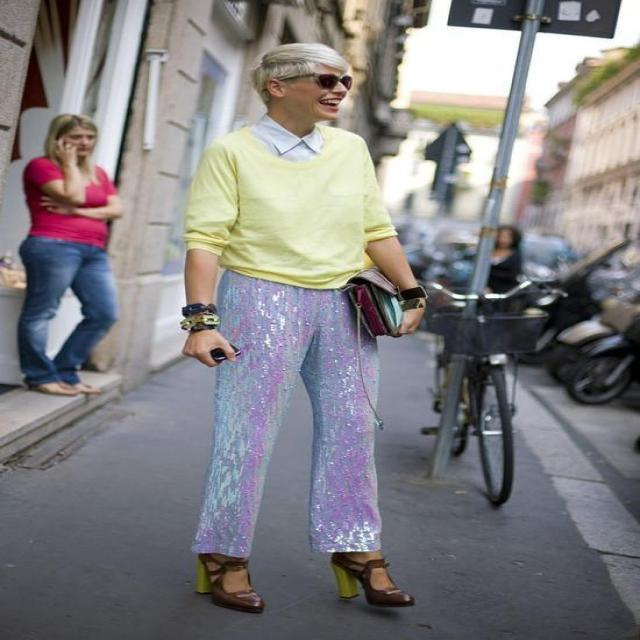Tshirt: (28, 153, 121, 246)
pants: (194, 270, 380, 559), (20, 235, 120, 388)
sweater: (185, 125, 399, 288)
